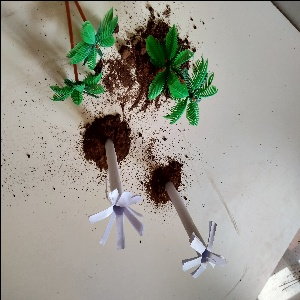plant: (136, 16, 218, 122), (51, 8, 123, 118)
weed: (83, 139, 149, 260), (161, 181, 231, 281)
